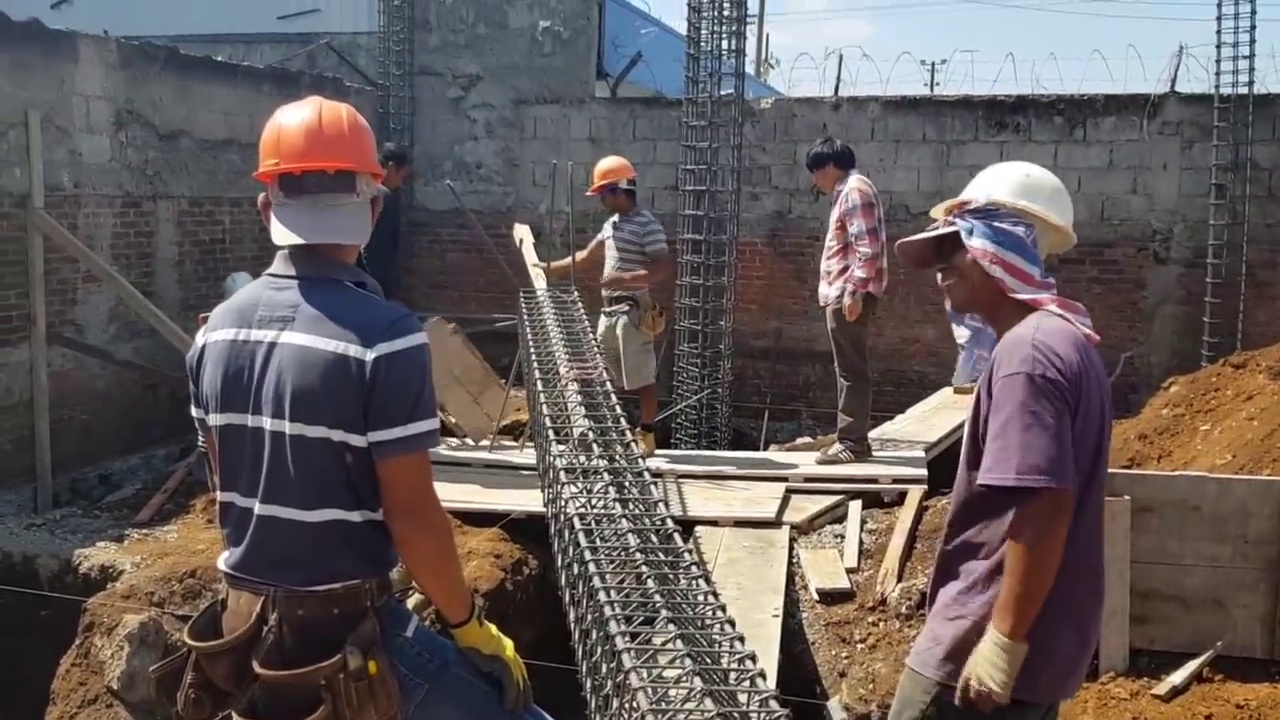helmet: (903, 161, 1090, 262), (248, 93, 385, 190), (585, 157, 637, 202)
helmet-off: (805, 139, 860, 198), (377, 143, 409, 193)
helmet-on: (240, 90, 386, 284), (909, 164, 1081, 326), (586, 158, 640, 221)
person: (183, 94, 514, 720), (903, 139, 1107, 720), (523, 157, 667, 452), (808, 138, 890, 487), (362, 135, 415, 304)
